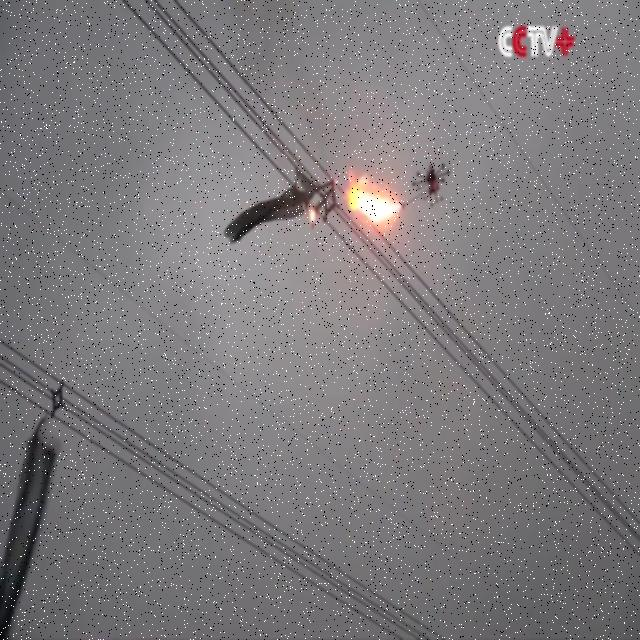UAV: (402, 163, 450, 209)
